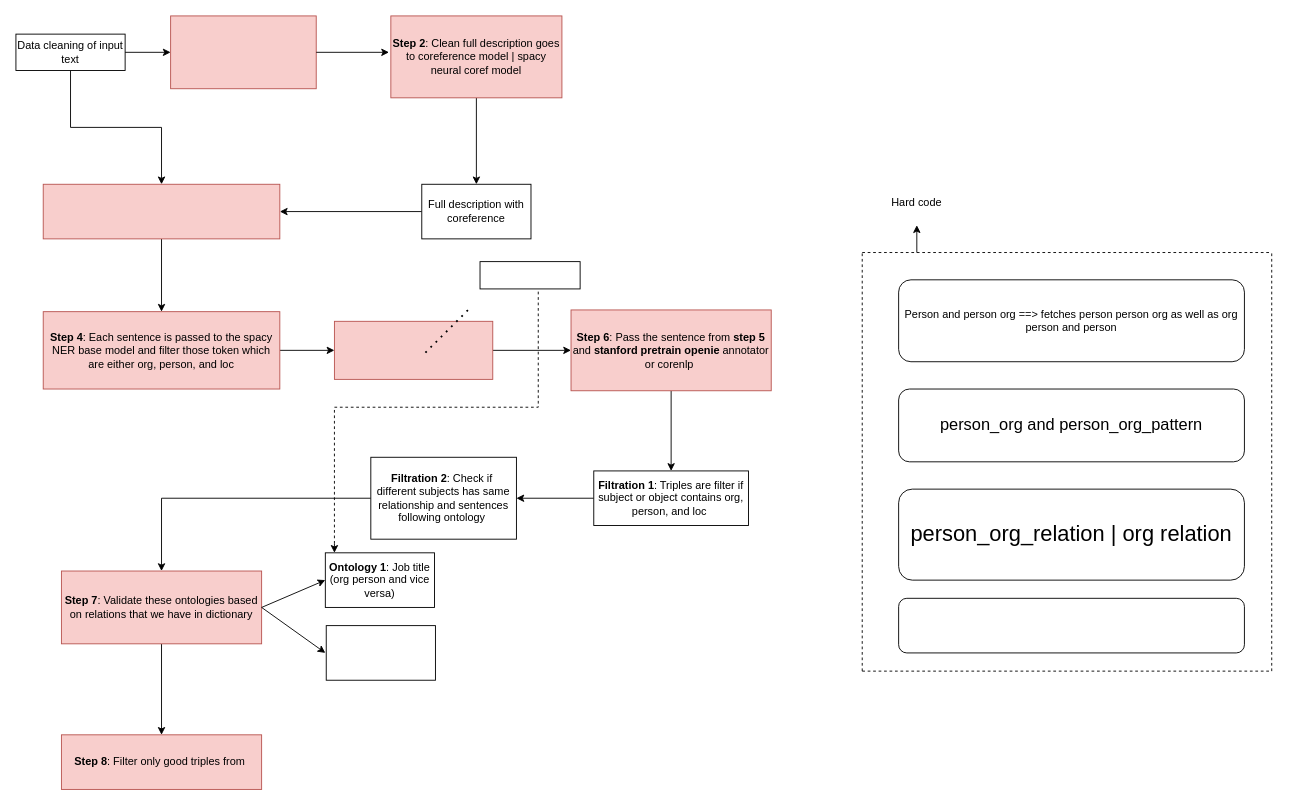
Some shapes in this 1289 by 805 pixel diagram are drawn without their labels. The box of each missing label's shape, as (x1, y1, x2, y2) in pixels:
Ontology 2 : Location1 (org to loc and vice versa): (325, 625, 435, 680)
org_loc_relation and loc org: (898, 597, 1244, 653)
Some conditions: (479, 261, 580, 289)
Step 1 : Loading the custom space NER base model: (170, 15, 316, 89)
Step 3 : Sentences are created from the previous step: (42, 183, 280, 239)
Step 5 : Filter sentences based on job title 1 and location 1: (334, 320, 493, 379)
